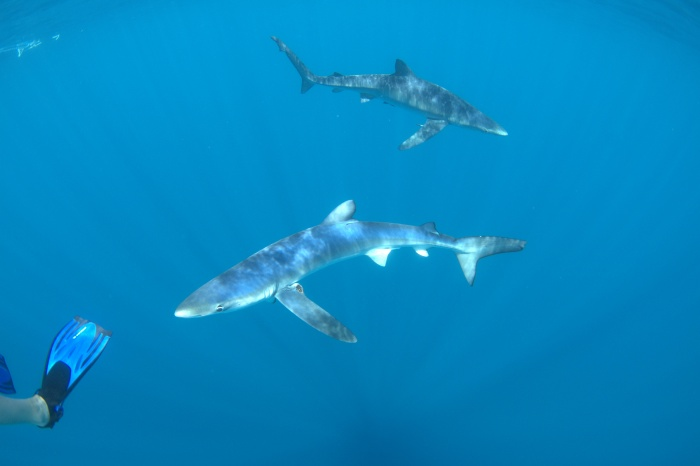Azul: (161, 180, 526, 368)
